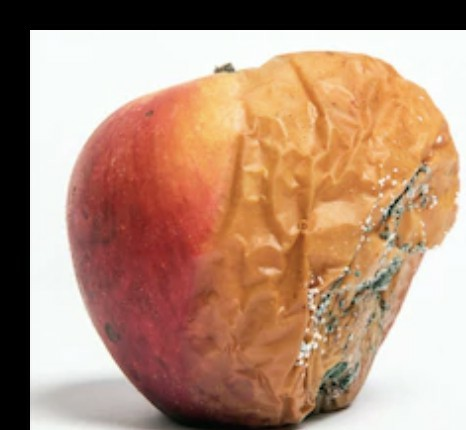rotten_apple: (67, 51, 460, 430)
